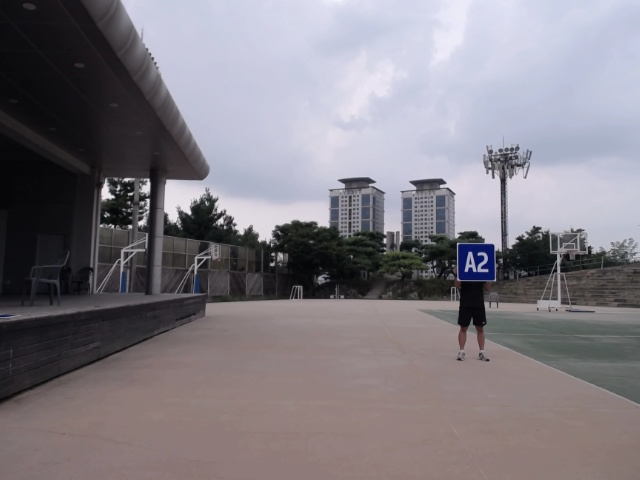delivery_a2: (458, 243, 495, 281)
